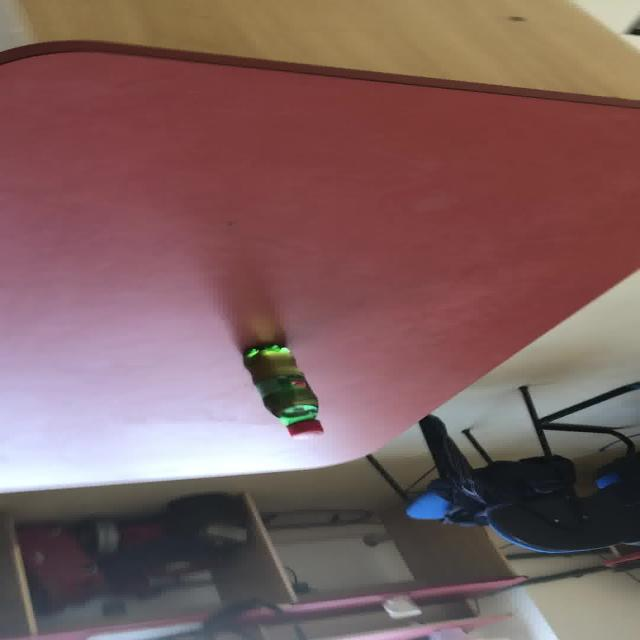guarana: (240, 342, 324, 436)
